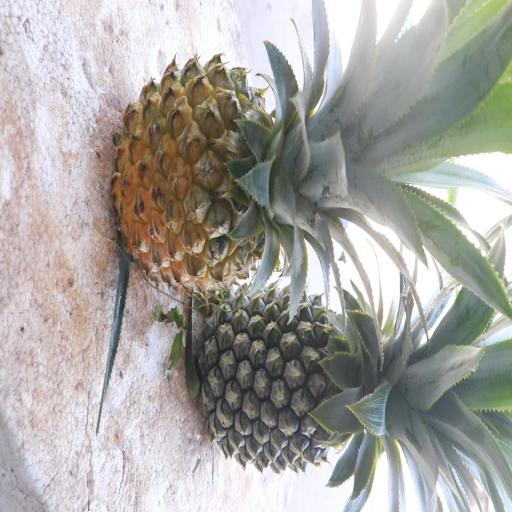Pineapple - v8 v1: (112, 56, 398, 292)
